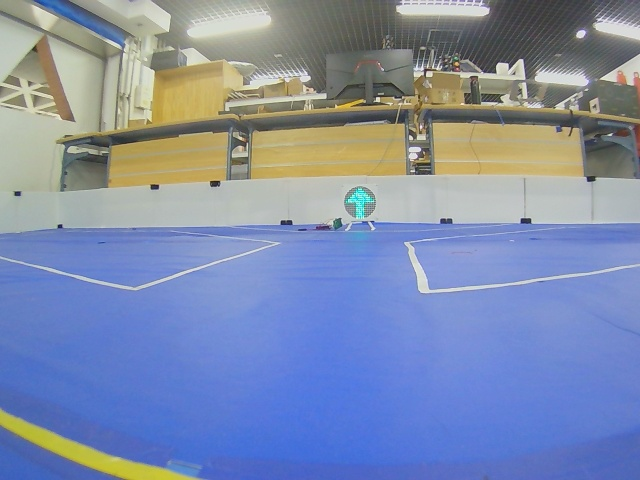straight_green: (344, 186, 377, 220)
